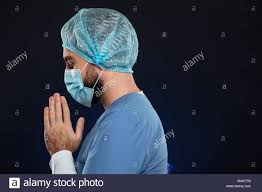with-mask: (53, 11, 134, 109)
